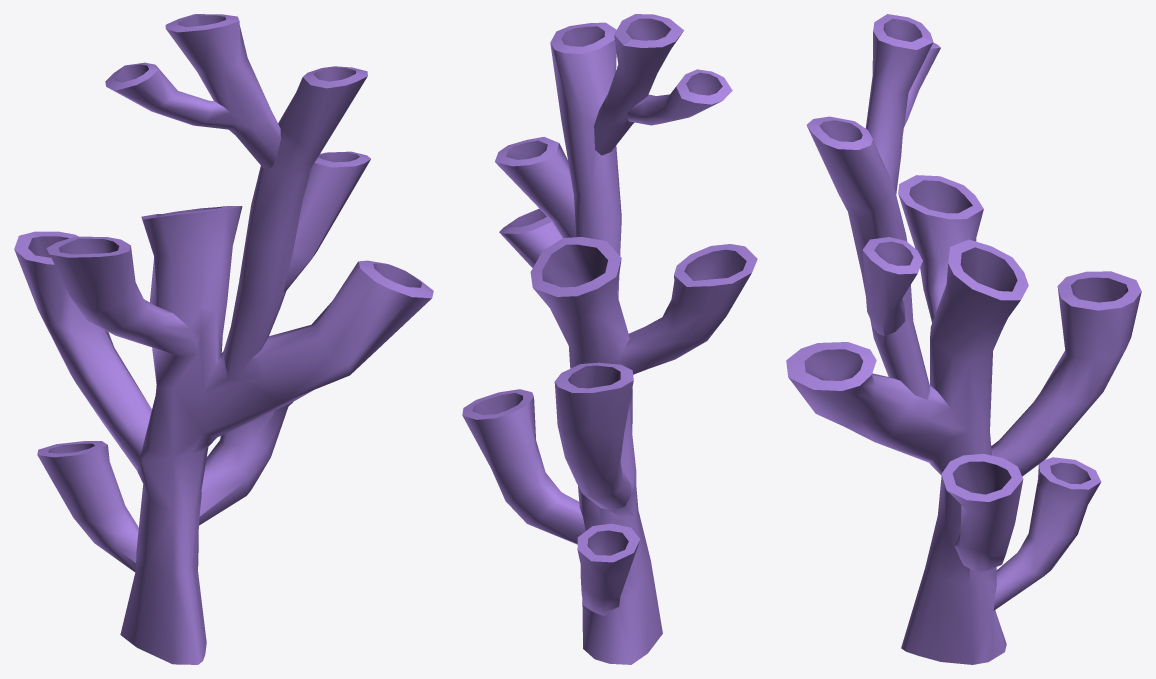
The model's file is coral_tube_D_dense.fbx.
3 renders of one model, left to right at view 1: azimuth 30°, elevation 25°; view 2: azimuth 150°, elevation 25°; view 3: azimuth 270°, elevation 25°, orthographic. The views are drawn at different scales.
Parts seen in each view (by area): view 1: coral_tube_D_dense; view 2: coral_tube_D_dense; view 3: coral_tube_D_dense.
Boxes of the visible parts, bbox=[...] form: coral_tube_D_dense: bbox=[14, 14, 433, 664]; coral_tube_D_dense: bbox=[462, 14, 757, 664]; coral_tube_D_dense: bbox=[786, 14, 1141, 664].
Bounding box in the file's own units: 31.32 × 60.52 × 31.27.
